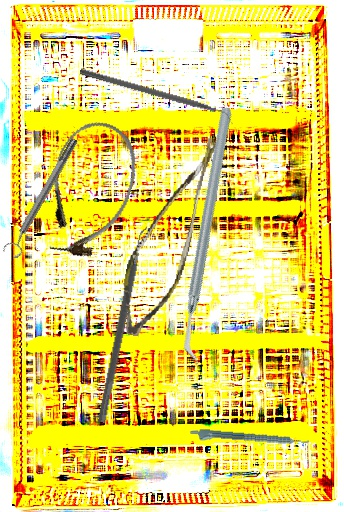Cannula: (32, 112, 148, 267)
Chopper: (94, 104, 325, 366), (77, 68, 236, 127)
Fixation Ring: (0, 134, 85, 261)
Handpiece: (189, 427, 310, 452)
Micro Scissor: (113, 124, 222, 346)
Spatula Surgical: (97, 225, 153, 425)
